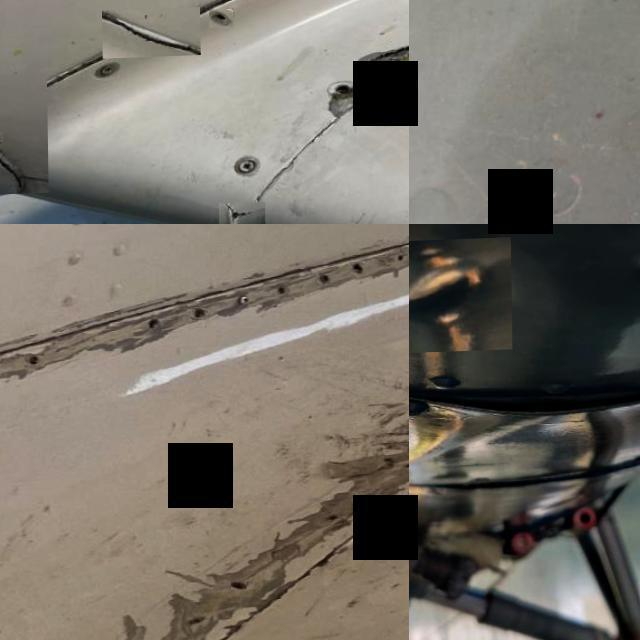Crack: (322, 44, 409, 129), (0, 74, 47, 198), (101, 10, 200, 60), (217, 204, 263, 224)
Dent: (409, 239, 512, 355)
Missing_Fastener: (208, 12, 232, 31), (24, 355, 44, 368), (190, 309, 207, 322), (349, 266, 365, 278), (147, 322, 163, 332), (274, 290, 288, 300), (316, 279, 330, 289), (229, 584, 246, 592), (400, 465, 409, 473)
